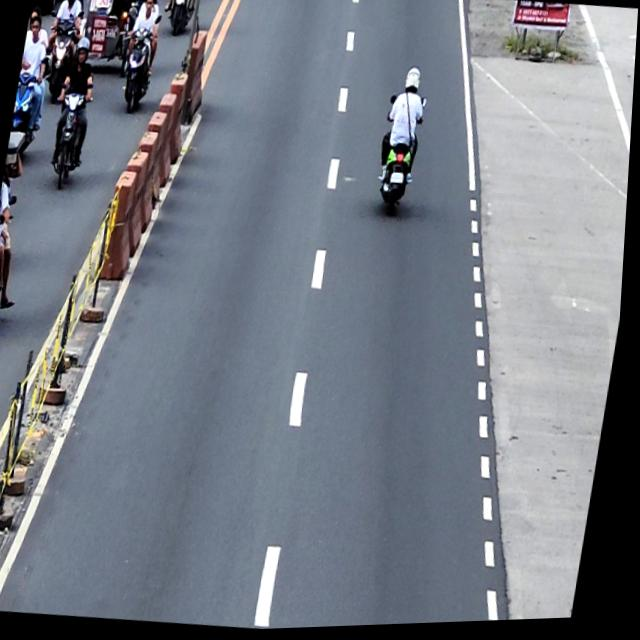License-Plate: (392, 174, 406, 187)
Motorcycle: (374, 94, 429, 216), (45, 78, 95, 196), (114, 10, 163, 116), (8, 52, 52, 158), (38, 8, 86, 103), (164, 0, 196, 36)
Tricycle: (77, 0, 148, 83), (0, 130, 29, 328)
